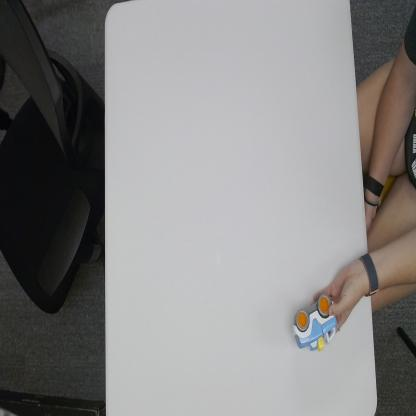Car: (292, 292, 338, 354)
Hand: (313, 256, 365, 332)
